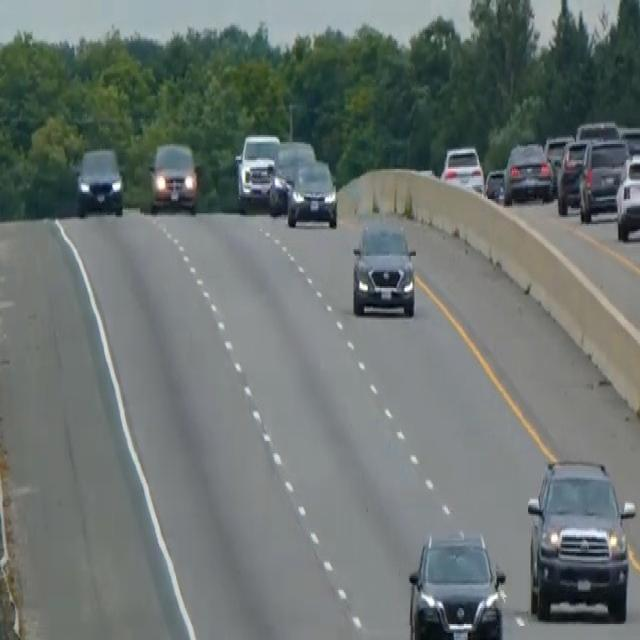car: (351, 217, 417, 318), (577, 135, 629, 222), (285, 156, 338, 230), (234, 130, 280, 210), (268, 137, 315, 215), (75, 144, 124, 217), (503, 138, 553, 204), (556, 135, 589, 213), (440, 142, 484, 194), (615, 153, 639, 242), (543, 132, 574, 188), (575, 118, 619, 140), (484, 165, 506, 203), (619, 122, 639, 156)
jeep: (525, 453, 635, 622), (406, 528, 507, 638)
minivan: (148, 139, 199, 213)
